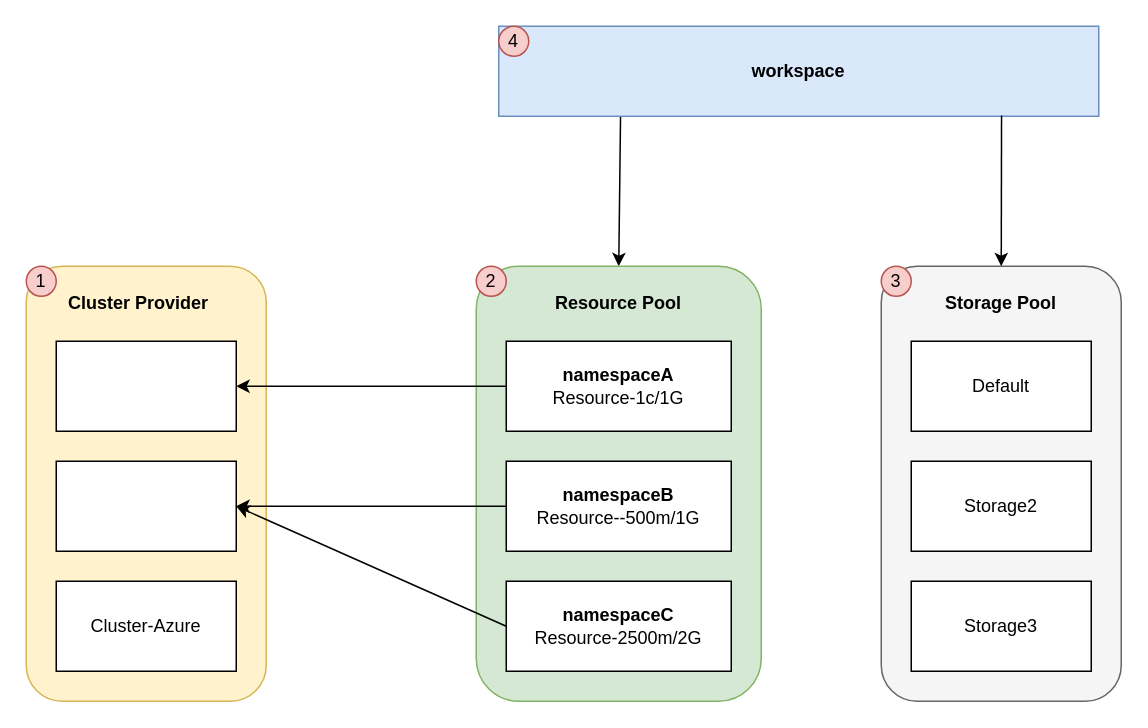
Some shapes in this 1148 by 728 pixel diagram are drawn without their labels. The shapes that lost their labels are listed below. From the top down, each one's centre as x and y in pixels, then its label:
[145,385]: Cluster-Rakuten
[145,505]: Cluster-GCP
